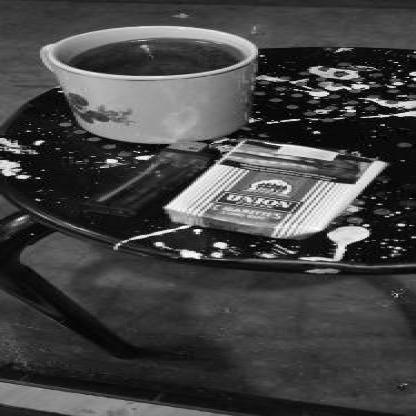objects: (165, 139, 388, 240)
